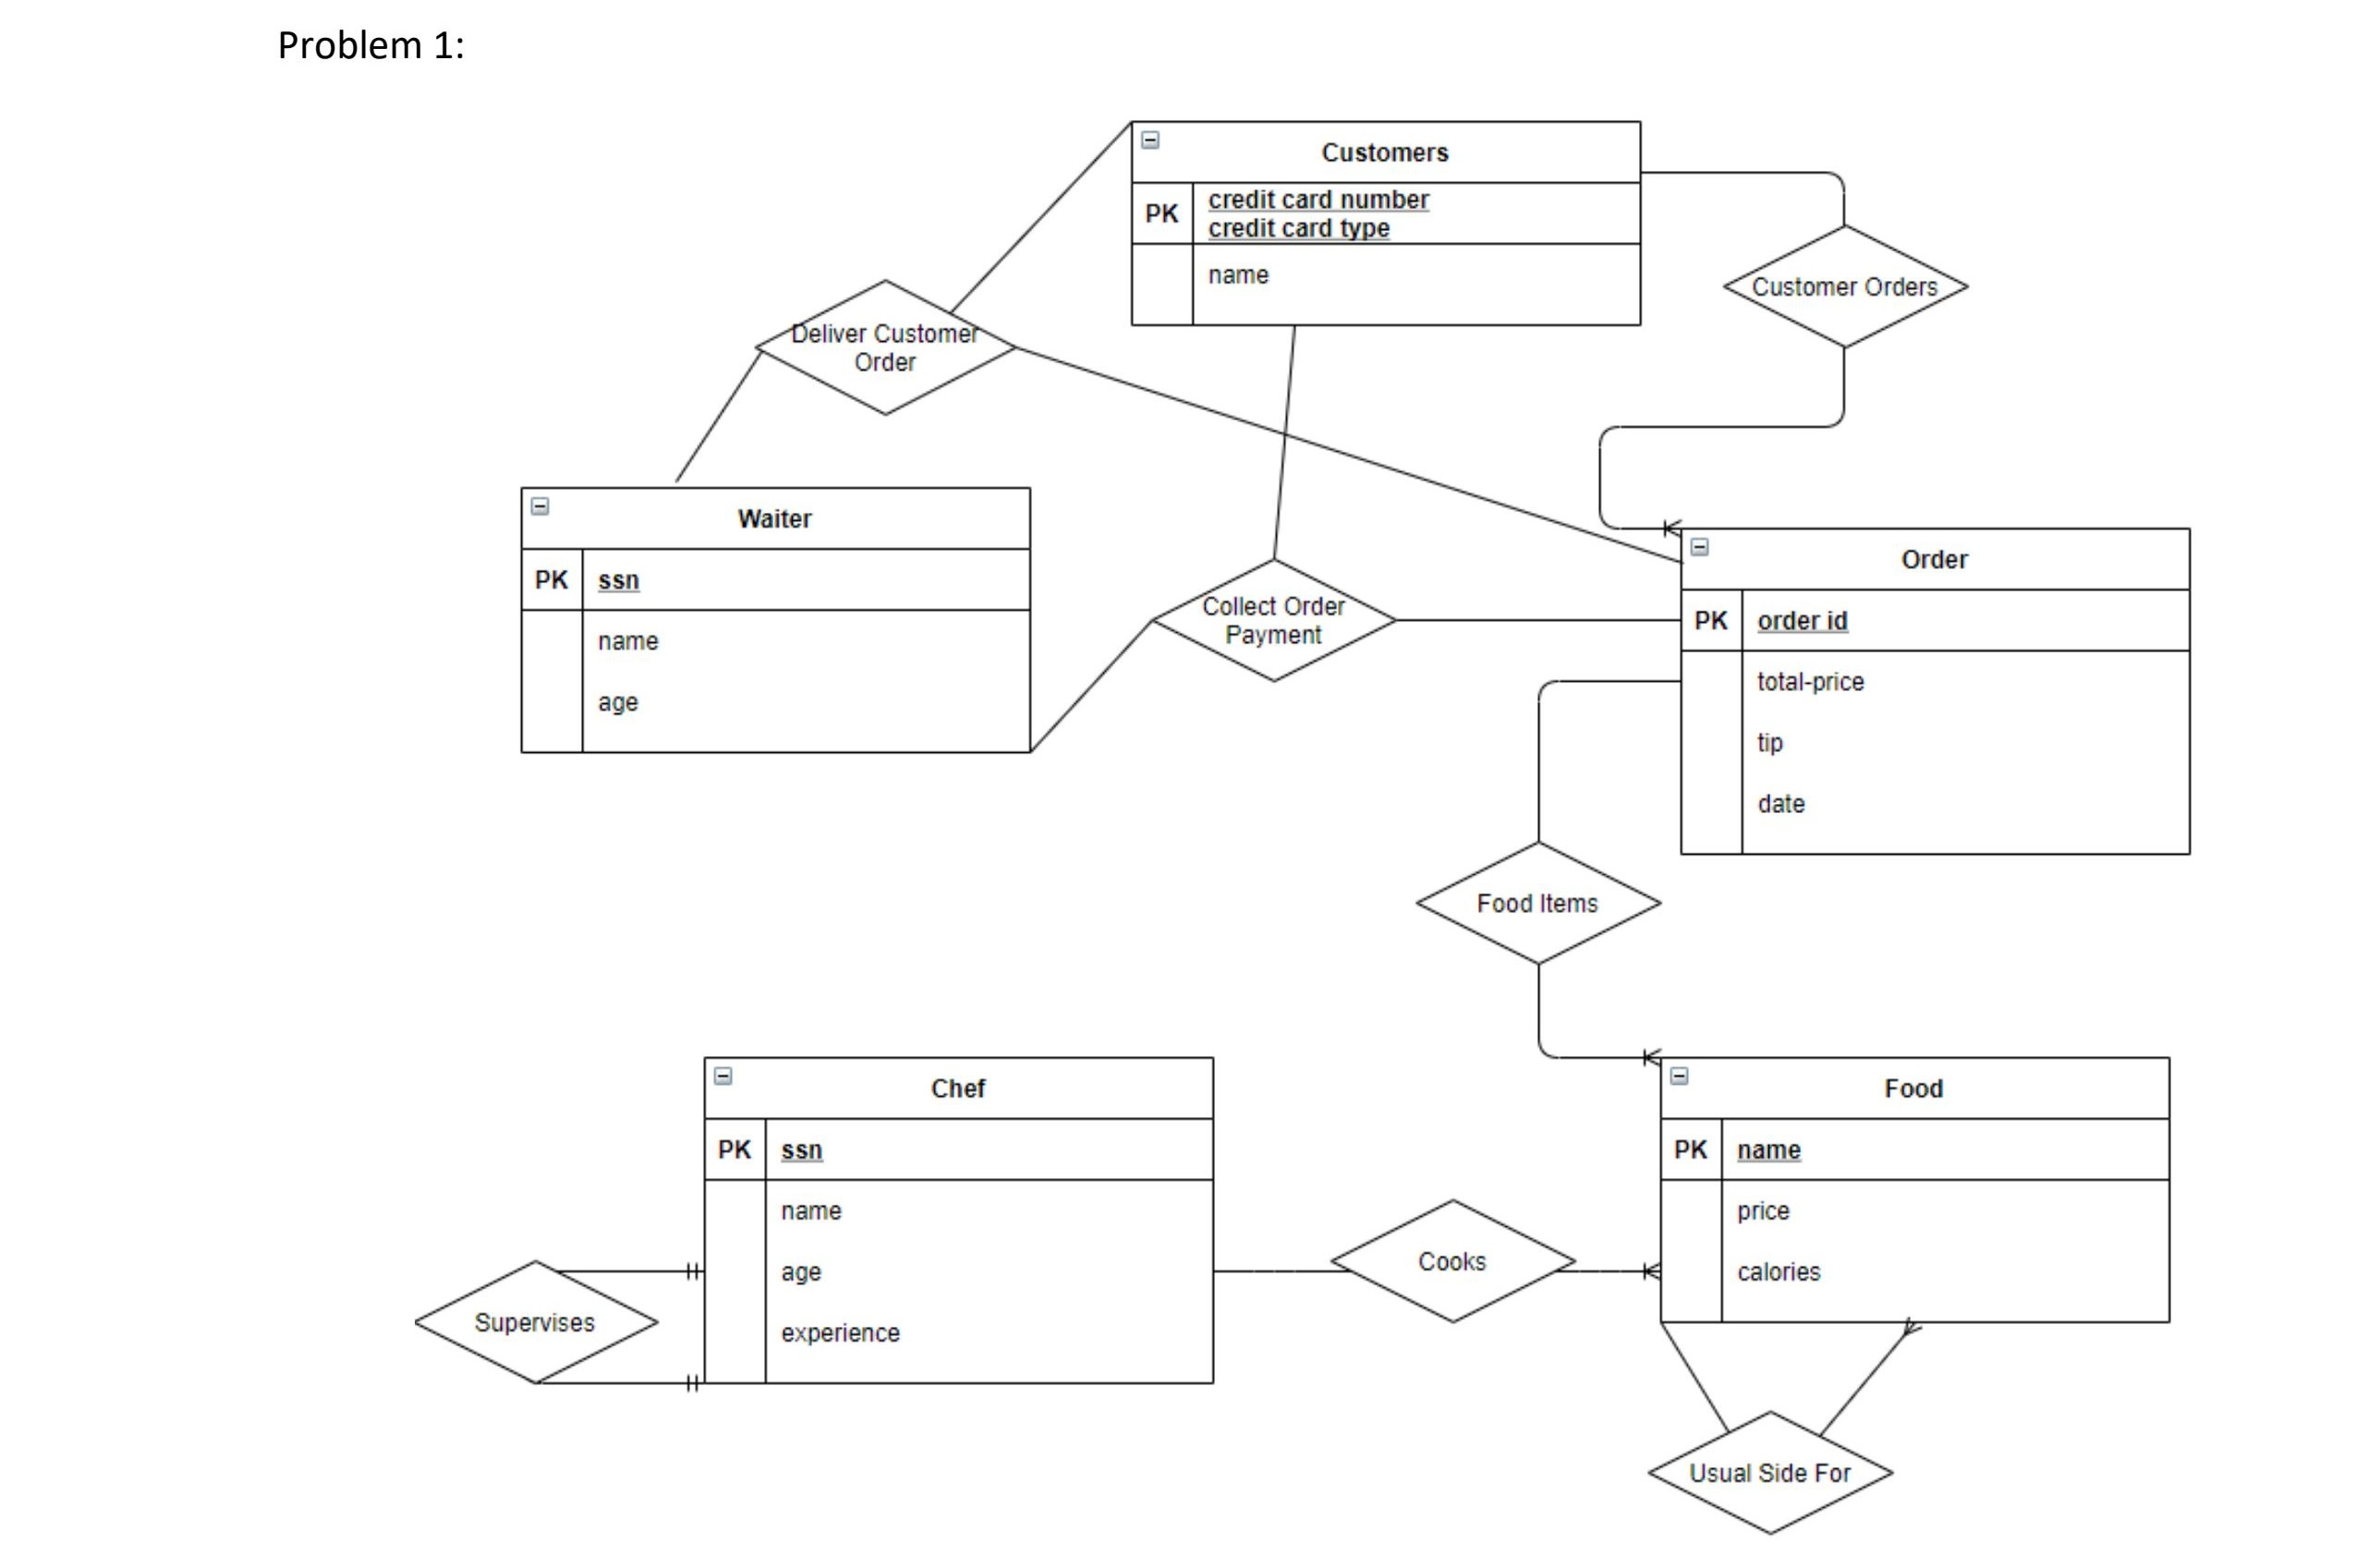Entity: (689, 1045, 1240, 1407), (1663, 518, 2200, 868), (504, 467, 1042, 780), (1644, 1048, 2181, 1335), (1116, 114, 1653, 338)
Relationship: (756, 271, 1025, 423), (1328, 1186, 1579, 1330), (1639, 1405, 1896, 1542), (418, 1255, 659, 1400), (1149, 553, 1408, 686), (1725, 219, 1976, 355), (1417, 840, 1665, 959)
